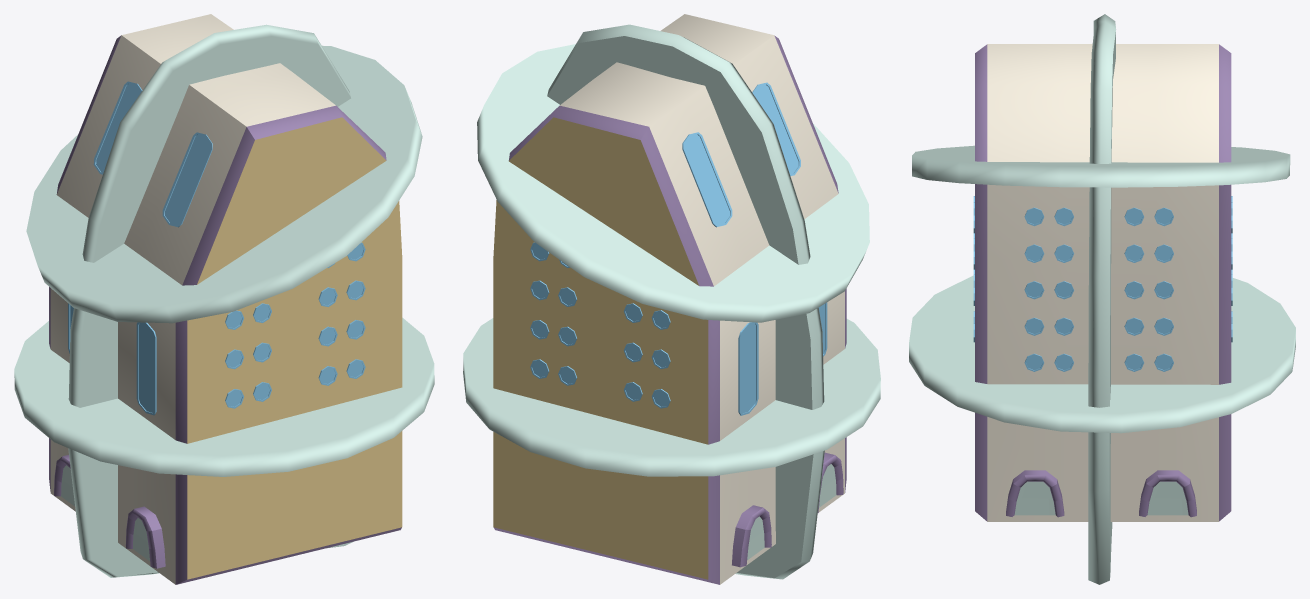
File: Building_2.fbx
3 views of the same model, side by side, from view 1: azimuth 30°, elevation 25°; view 2: azimuth 150°, elevation 25°; view 3: azimuth 270°, elevation 25° (orthographic). The views are drawn at different scales.
Parts seen in each view (by area): view 1: Building_2; view 2: Building_2; view 3: Building_2.
Boxes of the visible parts, x1=… form: Building_2: x1=14, y1=14, x2=434, y2=584; Building_2: x1=463, y1=14, x2=880, y2=584; Building_2: x1=909, y1=14, x2=1295, y2=584.
Size of the model in its own units: 905 by 905 by 1293.
